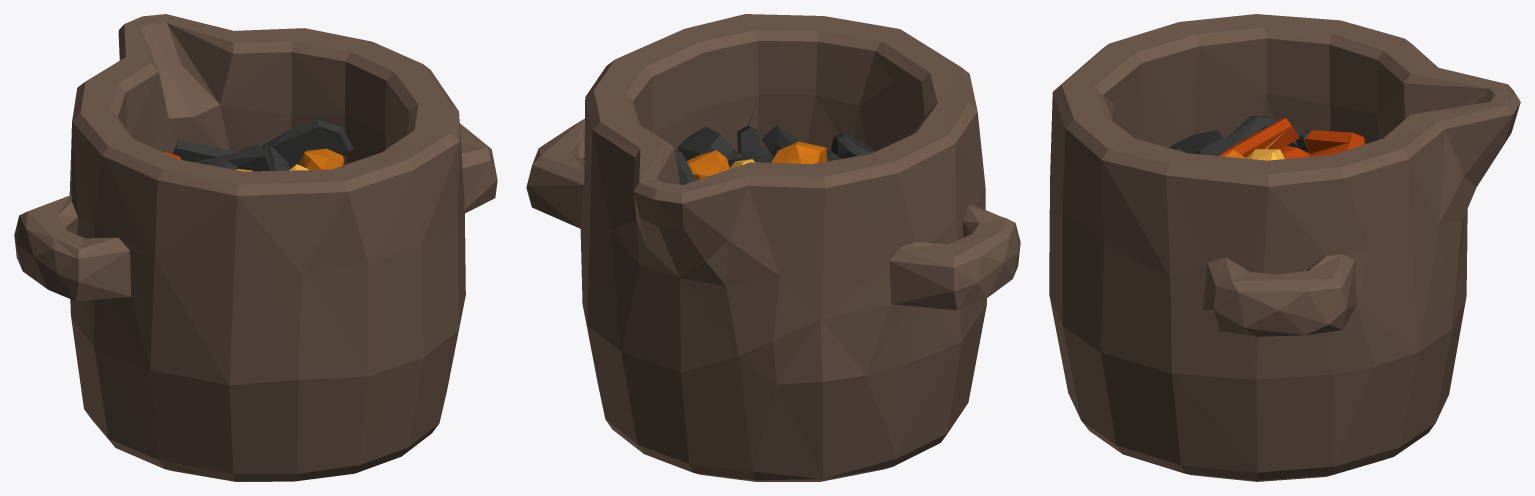
Rendered from SmeltingCrucible.fbx.
The picture shows the model from 3 angles, left to right: view 1: azimuth 30°, elevation 25°; view 2: azimuth 150°, elevation 25°; view 3: azimuth 270°, elevation 25°; orthographic projection. The views are drawn at different scales.
Visible parts, largest first — view 1: SmeltingCrucible; view 2: SmeltingCrucible; view 3: SmeltingCrucible.
Part boxes in pixels (left/top/right/bottom): SmeltingCrucible: left=14, top=14, right=497, bottom=481; SmeltingCrucible: left=526, top=14, right=1020, bottom=481; SmeltingCrucible: left=1049, top=14, right=1520, bottom=481.
Bounding box in the file's own units: 0.5507 × 0.4885 × 0.3647.
